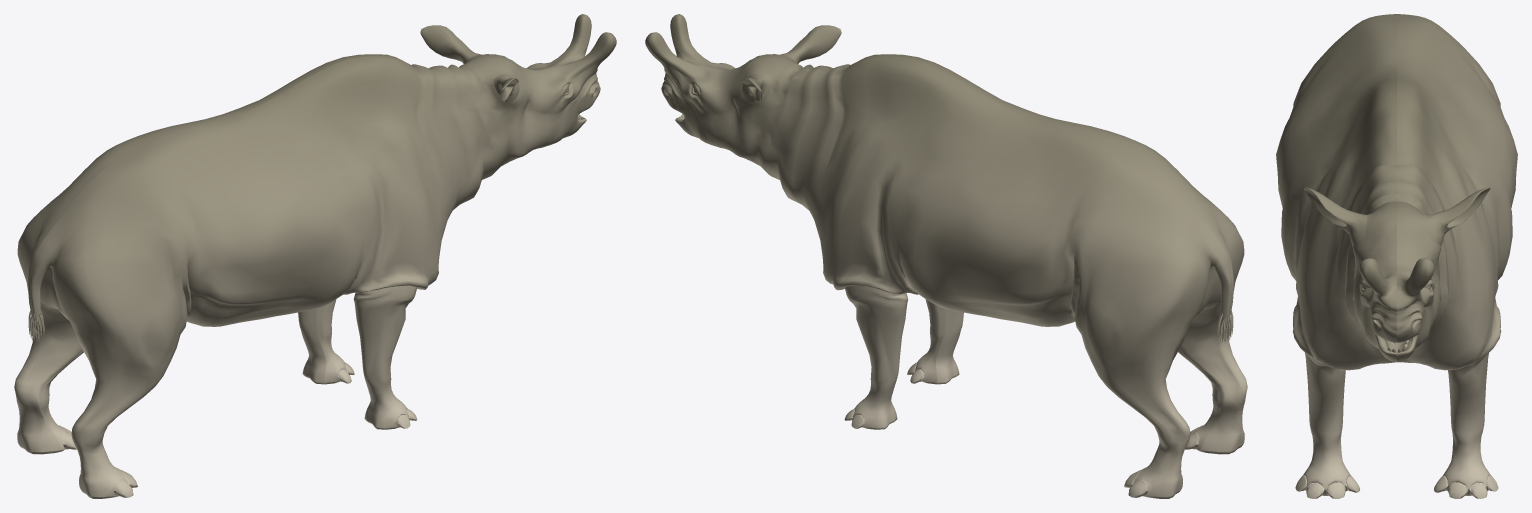
File: brontotherium.glb
3 views of the same model, side by side, from view 1: azimuth 30°, elevation 25°; view 2: azimuth 150°, elevation 25°; view 3: azimuth 270°, elevation 25° (orthographic). The views are drawn at different scales.
Bounding box in the file's own units: 10 × 5.71 × 3.2.
